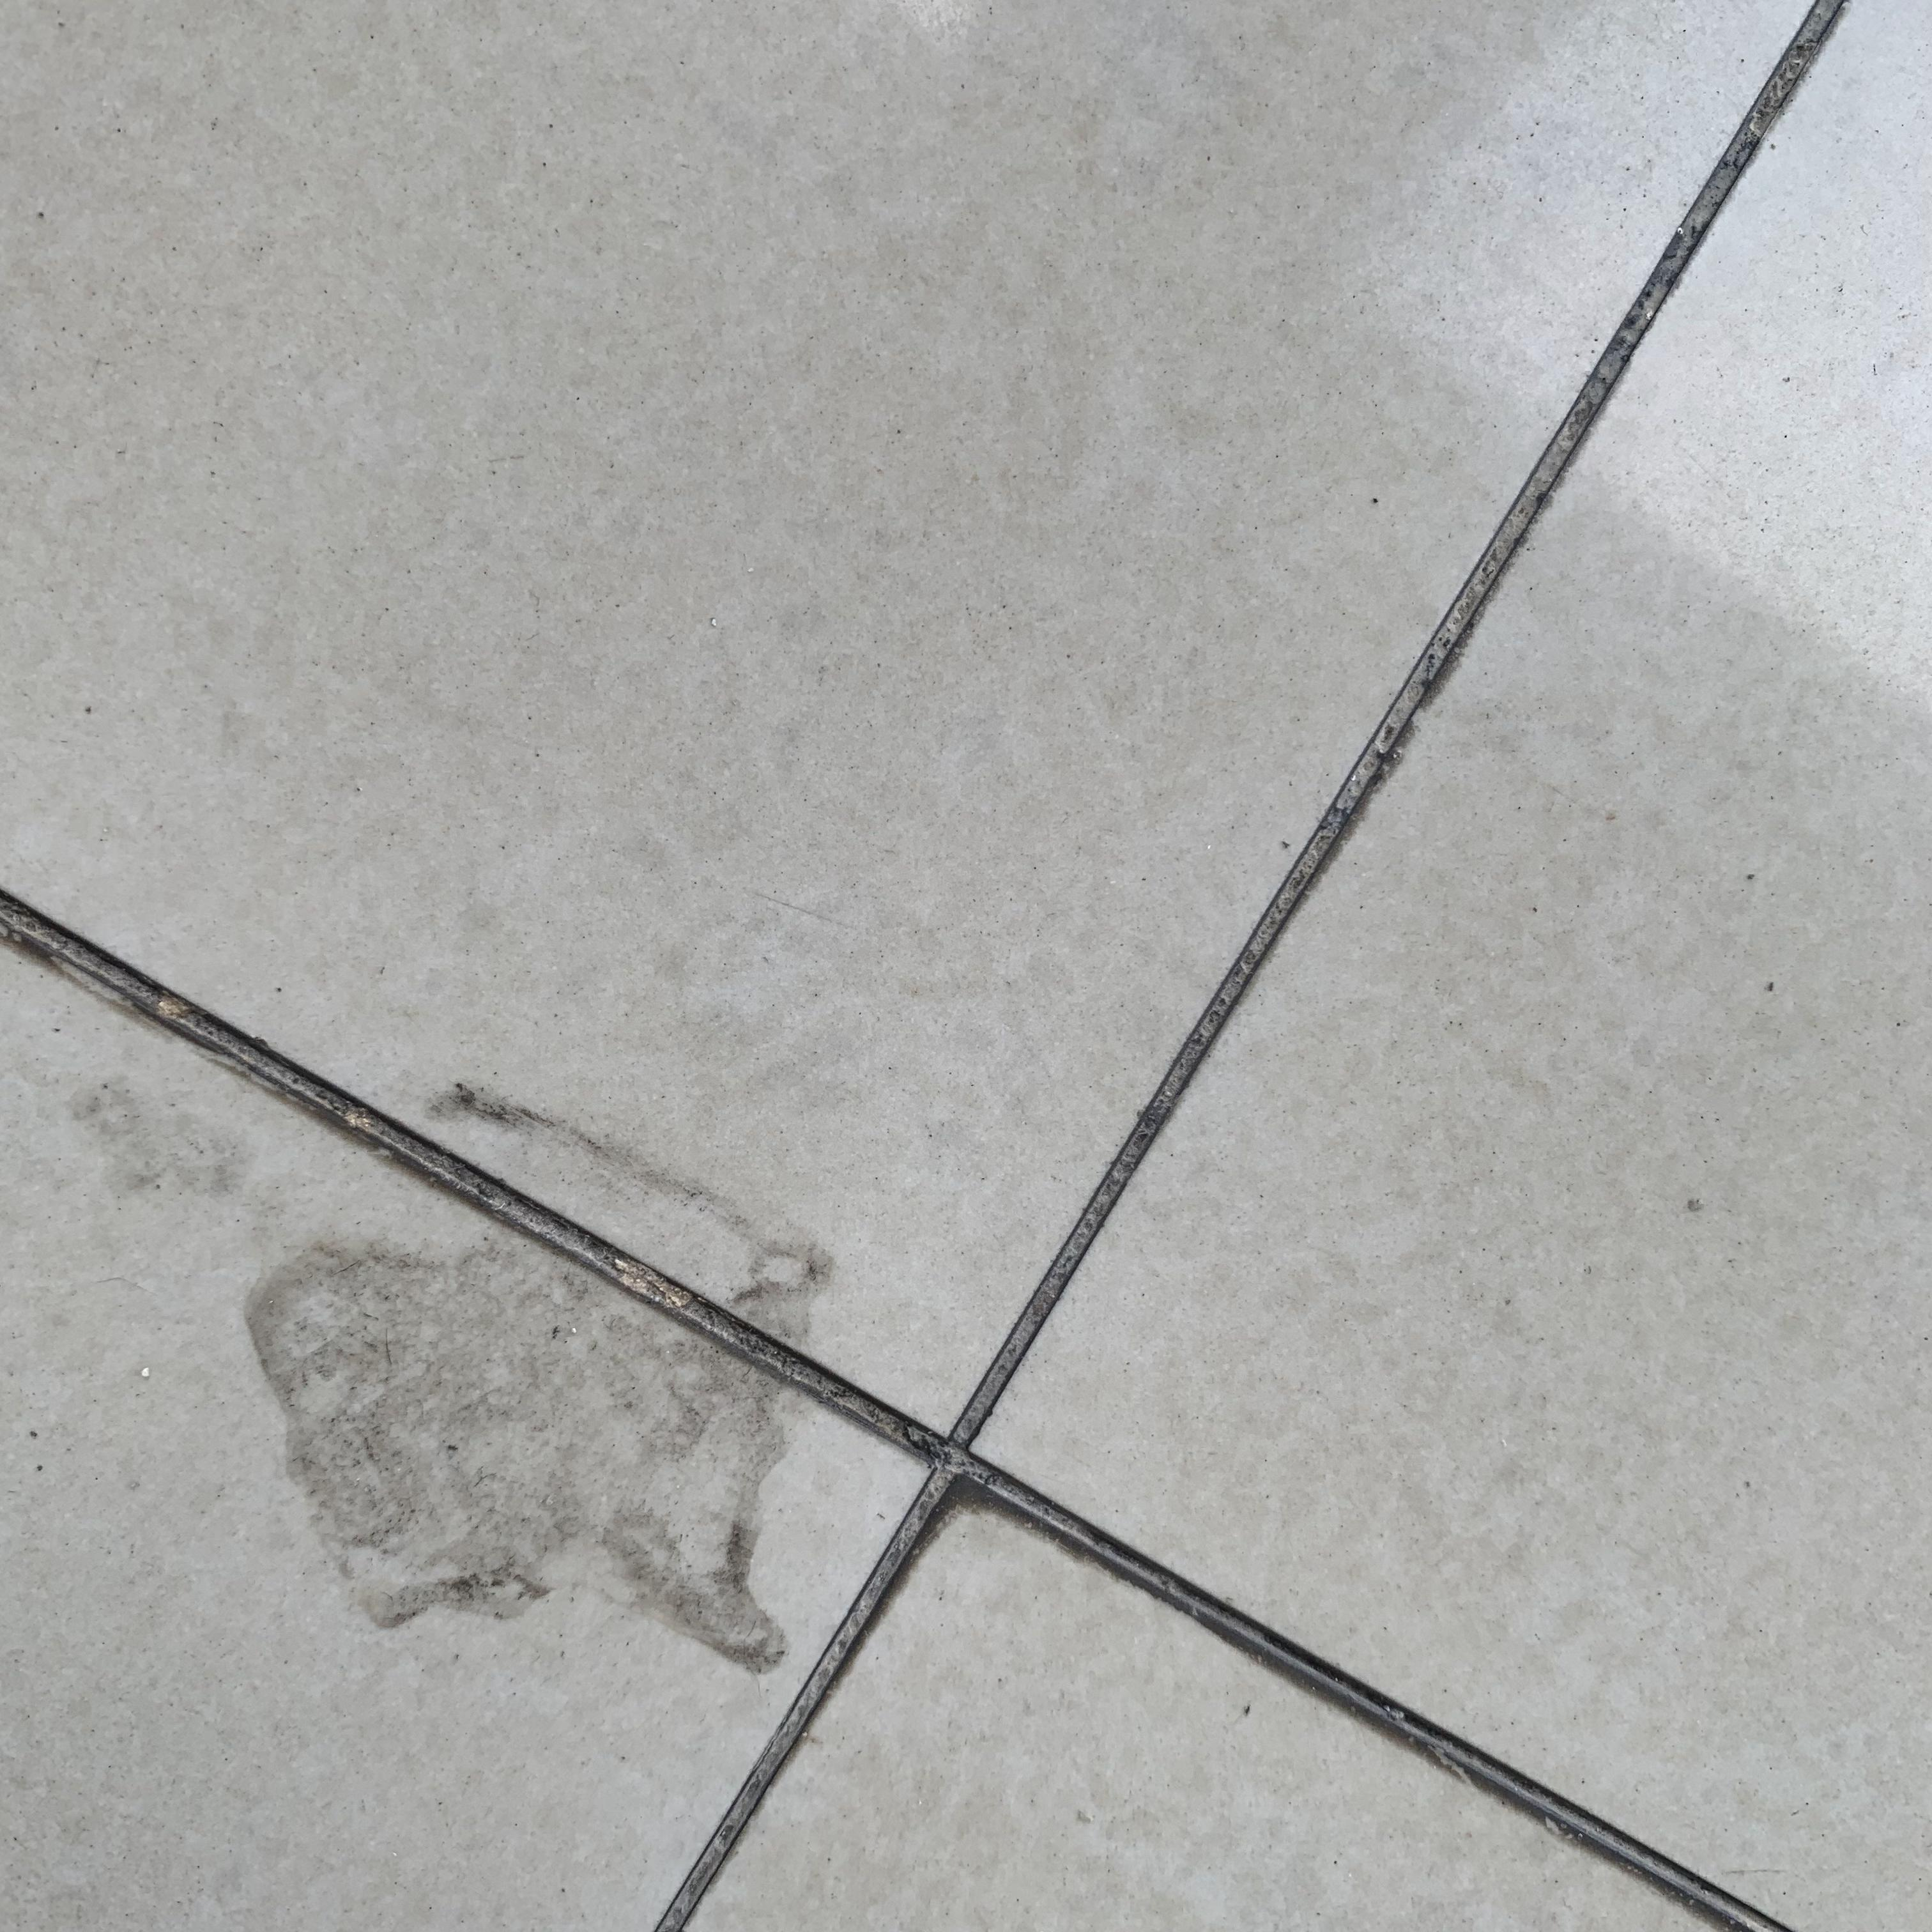grey spot: (241, 1085, 837, 1672), (73, 1077, 251, 1201)
reflection: (1357, 0, 1932, 708)
